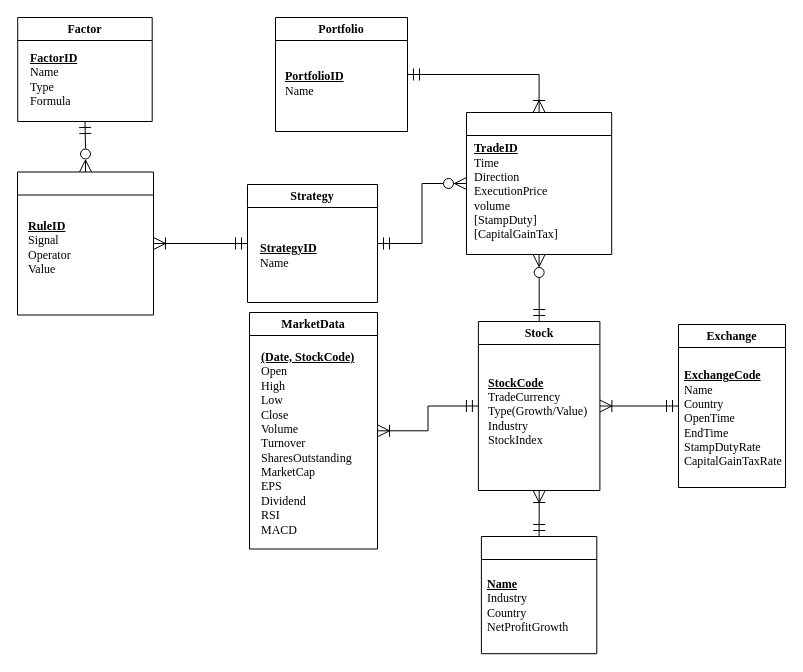
The diagram is 803 pixels wide and 672 high, and some of its shapes have lost their labels. The shapes that lost their labels are listed below. From the top down, each one's box as (x1, y1, x2, y2) in pixels, then its label:
(466, 112, 612, 254): TradeRecord
(16, 171, 154, 315): FactorUsageRule
(480, 536, 597, 654): Company
